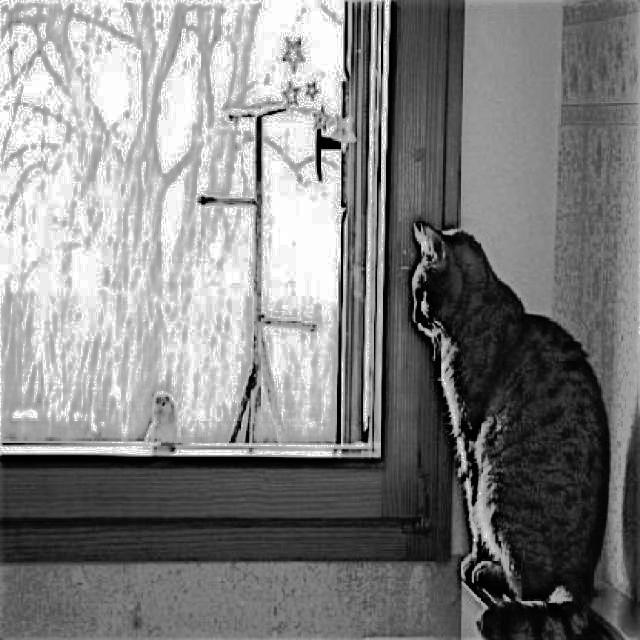Cat: (406, 211, 611, 640)
